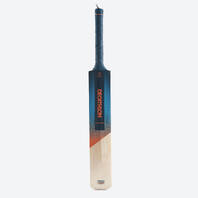bottom left: (86, 178, 100, 191)
bottom right: (109, 176, 119, 192)
top left: (85, 67, 96, 77)
top right: (106, 66, 117, 77)
